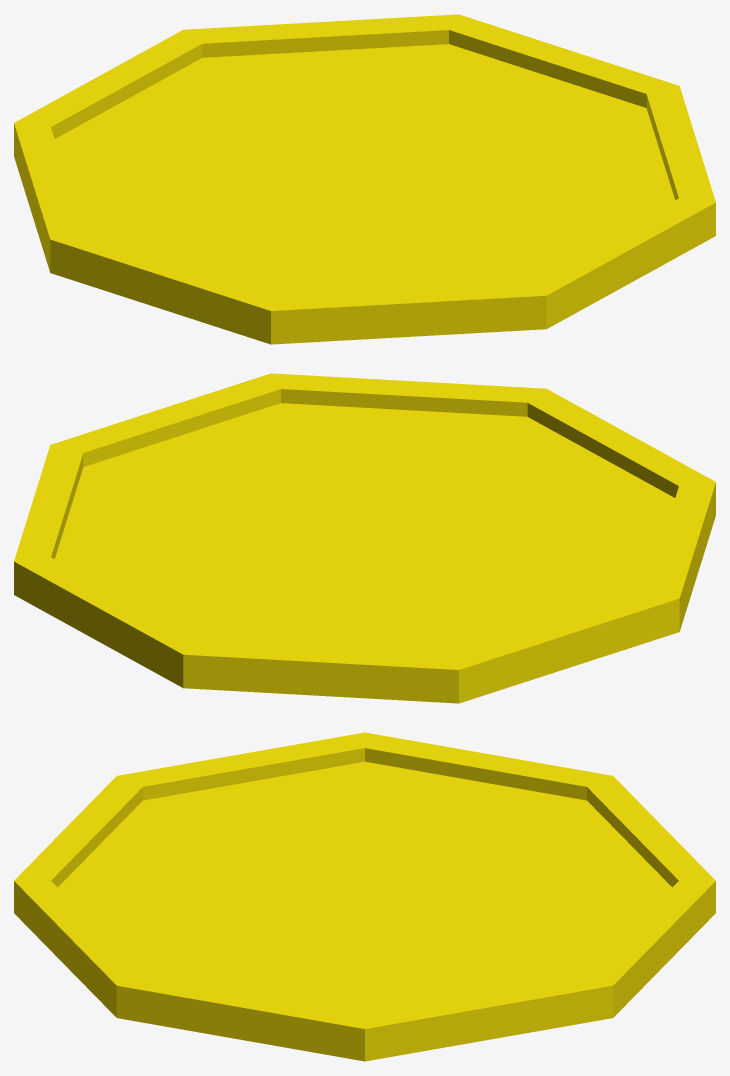
File: coin.fbx
3 renders of one model, top to bottom at view 1: azimuth 30°, elevation 25°; view 2: azimuth 150°, elevation 25°; view 3: azimuth 270°, elevation 25°, orthographic. The views are drawn at different scales.
Parts seen in each view (by area): view 1: Cylinder; view 2: Cylinder; view 3: Cylinder.
Part boxes in pixels (<box>): Cylinder: <box>14,14,715,344</box>; Cylinder: <box>14,373,715,703</box>; Cylinder: <box>14,732,715,1061</box>.
Bounding box in the file's own units: 22.06 × 1.12 × 22.06.
